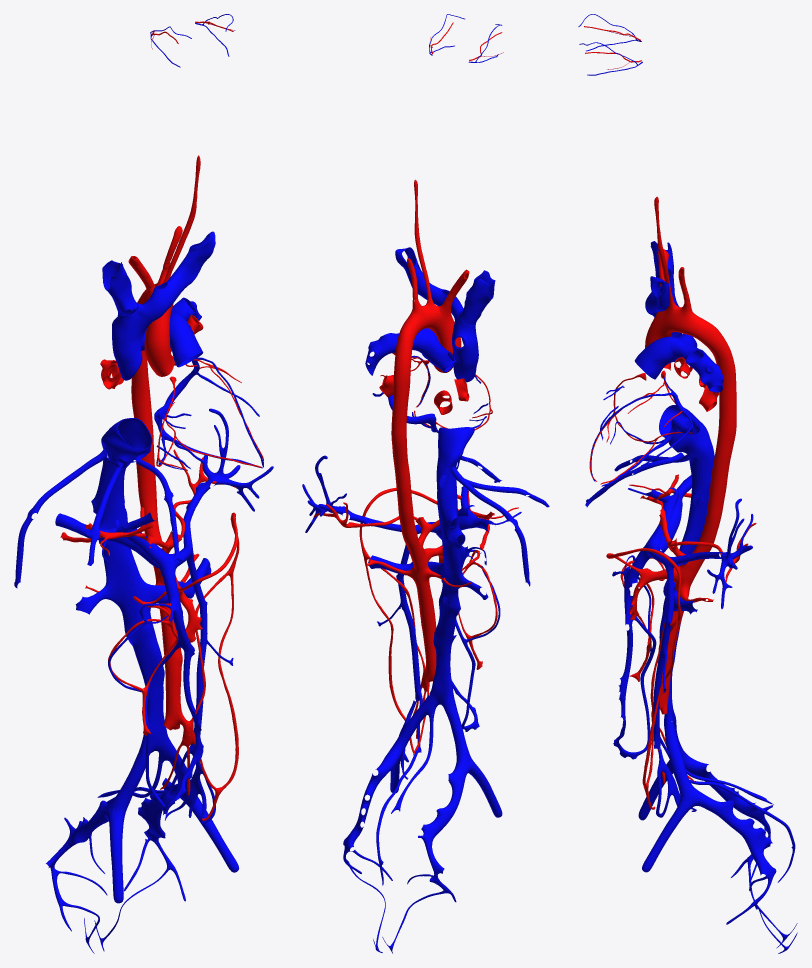
The model's file is VH_M_Blood_Vasculature_0.6.glb.
3 renders of one model, left to right at view 1: azimuth 30°, elevation 25°; view 2: azimuth 150°, elevation 25°; view 3: azimuth 270°, elevation 25°, orthographic. The views are drawn at different scales.
Parts seen in each view (by area): view 1: VH_M_inferior_vena_cava_b, VH_M_descending_aorta_b, VH_M_inferior_vena_cava_a, VH_M_superior_mesenteric_vein, VH_M_splenic_vein, VH_M_brachiocephalic_vein_L, VH_M_superior_vena_cava, VH_M_marginal_artery_of_Drummond, VH_M_descending_aorta_a, VH_M_inferior_mesenteric_vein, VH_M_brachiocephalic_vein_R, VH_M_pulmonary_trunk (+18 smaller); view 2: VH_M_inferior_vena_cava_b, VH_M_descending_aorta_b, VH_M_descending_aorta_a, VH_M_inferior_vena_cava_a, VH_M_aortic_arch, VH_M_internal_iliac_vein_R, VH_M_superior_vena_cava, VH_M_splenic_vein, VH_M_brachiocephalic_vein_R, VH_M_brachiocephalic_vein_L, VH_M_internal_iliac_vein_L, VH_M_marginal_artery_of_Drummond (+8 smaller); view 3: VH_M_descending_aorta_a, VH_M_descending_aorta_b, VH_M_inferior_vena_cava_b, VH_M_inferior_vena_cava_a, VH_M_internal_iliac_vein_L, VH_M_aortic_arch, VH_M_splenic_vein, VH_M_superior_mesenteric_vein, VH_M_pulmonary_artery_L, VH_M_inferior_mesenteric_vein, VH_M_marginal_artery_of_Drummond, VH_M_common_iliac_vein_L (+12 smaller).
Part boxes in pixels (<box>): VH_M_inferior_vena_cava_b: <box>91,474,169,753</box>; VH_M_descending_aorta_b: <box>136,459,182,730</box>; VH_M_inferior_vena_cava_a: <box>101,418,152,482</box>; VH_M_superior_mesenteric_vein: <box>158,564,203,812</box>; VH_M_splenic_vein: <box>170,408,273,567</box>; VH_M_brachiocephalic_vein_L: <box>142,231,215,321</box>; VH_M_superior_vena_cava: <box>112,302,152,380</box>; VH_M_marginal_artery_of_Drummond: <box>179,512,239,820</box>; VH_M_descending_aorta_a: <box>131,298,154,461</box>; VH_M_inferior_mesenteric_vein: <box>186,548,207,755</box>; VH_M_brachiocephalic_vein_R: <box>102,260,137,315</box>; VH_M_pulmonary_trunk: <box>169,313,203,367</box>; VH_M_inferior_vena_cava_b: <box>429,489,465,706</box>; VH_M_descending_aorta_b: <box>396,485,436,682</box>; VH_M_descending_aorta_a: <box>391,343,412,489</box>; VH_M_inferior_vena_cava_a: <box>436,427,474,493</box>; VH_M_aortic_arch: <box>397,304,459,348</box>; VH_M_internal_iliac_vein_R: <box>418,762,468,883</box>; VH_M_superior_vena_cava: <box>452,310,478,382</box>; VH_M_splenic_vein: <box>302,455,440,534</box>; VH_M_brachiocephalic_vein_R: <box>461,270,495,325</box>; VH_M_brachiocephalic_vein_L: <box>395,247,463,319</box>; VH_M_internal_iliac_vein_L: <box>343,752,399,852</box>; VH_M_marginal_artery_of_Drummond: <box>359,487,437,752</box>; VH_M_descending_aorta_a: <box>709,334,736,488</box>; VH_M_descending_aorta_b: <box>657,485,726,714</box>; VH_M_inferior_vena_cava_b: <box>659,470,711,722</box>; VH_M_inferior_vena_cava_a: <box>659,405,714,472</box>; VH_M_internal_iliac_vein_L: <box>696,791,776,881</box>; VH_M_aortic_arch: <box>647,306,721,348</box>; VH_M_splenic_vein: <box>645,498,753,608</box>; VH_M_superior_mesenteric_vein: <box>613,545,651,753</box>; VH_M_pulmonary_artery_L: <box>670,338,723,392</box>; VH_M_inferior_mesenteric_vein: <box>653,562,673,749</box>; VH_M_marginal_artery_of_Drummond: <box>606,548,681,809</box>; VH_M_common_iliac_vein_L: <box>664,720,698,807</box>.
Bounding box in the file's own units: 0.2362 × 0.872 × 0.1877.
